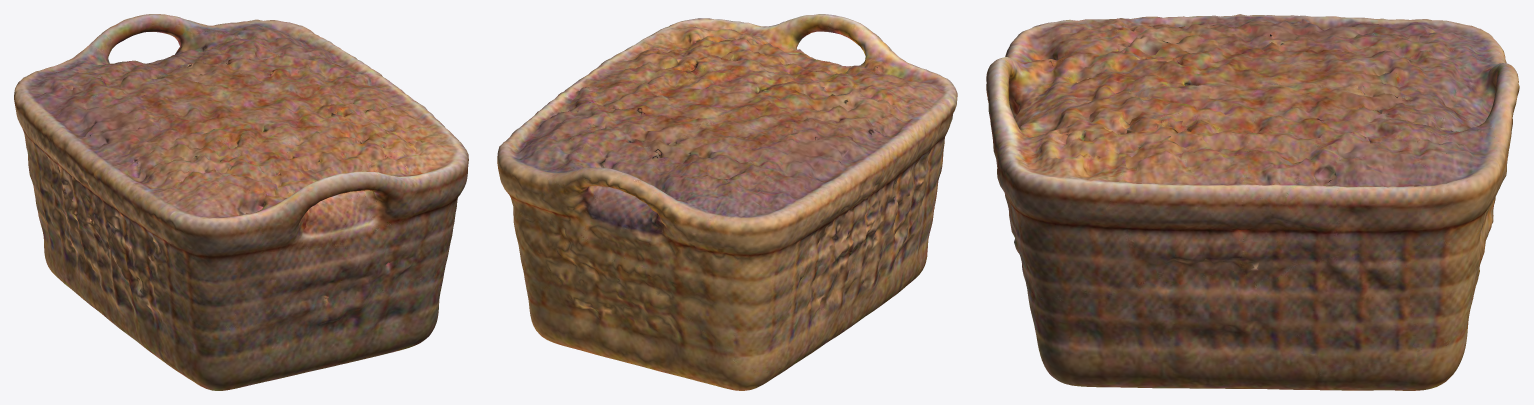
File: basket.glb
3 views of the same model, side by side, from view 1: azimuth 30°, elevation 25°; view 2: azimuth 150°, elevation 25°; view 3: azimuth 270°, elevation 25° (orthographic). The views are drawn at different scales.
Parts seen in each view (by area): view 1: Mesh1; view 2: Mesh1; view 3: Mesh1.
Part boxes in pixels (x1=…): Mesh1: x1=14, y1=14, x2=468, y2=390; Mesh1: x1=497, y1=14, x2=957, y2=390; Mesh1: x1=986, y1=14, x2=1519, y2=390.
Size of the model in its own units: 0.9713 by 0.6853 by 1.2.
1 material, 1 textured.
